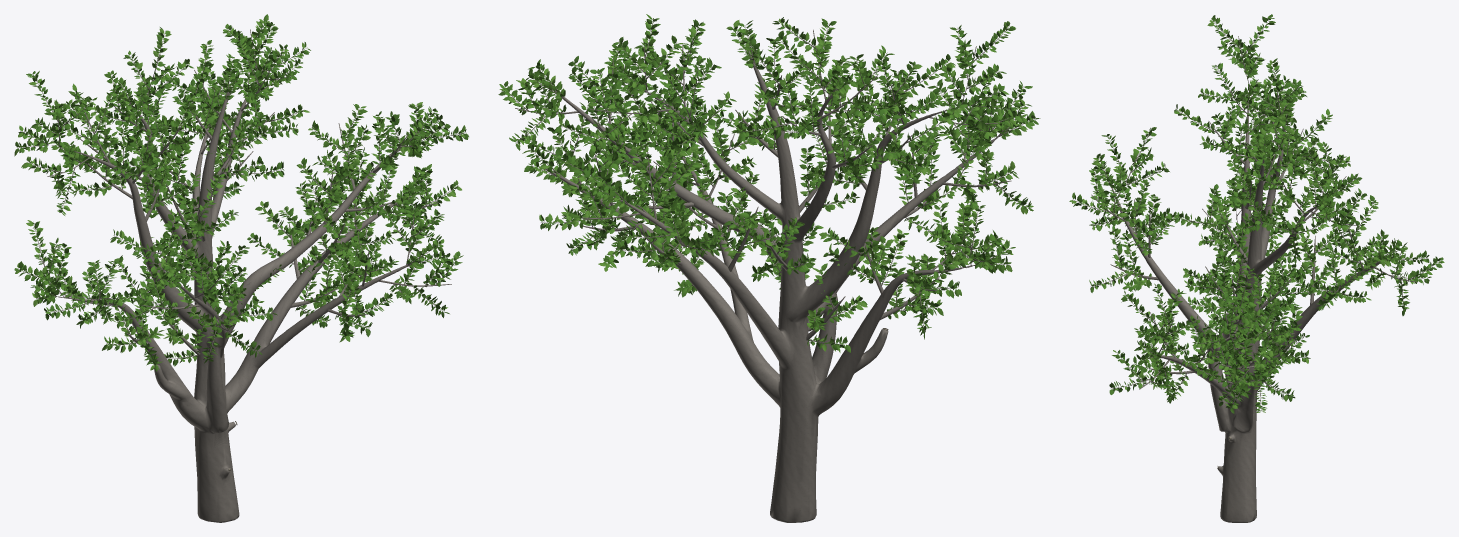
The model's file is hachiko-rear-tree.glb.
3 views of the same model, side by side, from view 1: azimuth 30°, elevation 25°; view 2: azimuth 150°, elevation 25°; view 3: azimuth 270°, elevation 25° (orthographic). The views are drawn at different scales.
Parts seen in each view (by area): view 1: A08_estimated_August_leafy_crown, A08_observed_primary_forks_and_inferred_fine_branches; view 2: A08_estimated_August_leafy_crown, A08_observed_primary_forks_and_inferred_fine_branches; view 3: A08_estimated_August_leafy_crown, A08_observed_primary_forks_and_inferred_fine_branches.
Boxes of the visible parts, box(x1,y1,x2,y2) form: A08_estimated_August_leafy_crown: box(14, 14, 468, 371); A08_observed_primary_forks_and_inferred_fine_branches: box(17, 25, 465, 522); A08_estimated_August_leafy_crown: box(498, 14, 1040, 352); A08_observed_primary_forks_and_inferred_fine_branches: box(509, 19, 1034, 522); A08_estimated_August_leafy_crown: box(1069, 14, 1444, 413); A08_observed_primary_forks_and_inferred_fine_branches: box(1073, 16, 1439, 522).
Size of the model in its own units: 8.88 by 8.82 by 7.03.
Materials: 3 (3 with a texture image).
